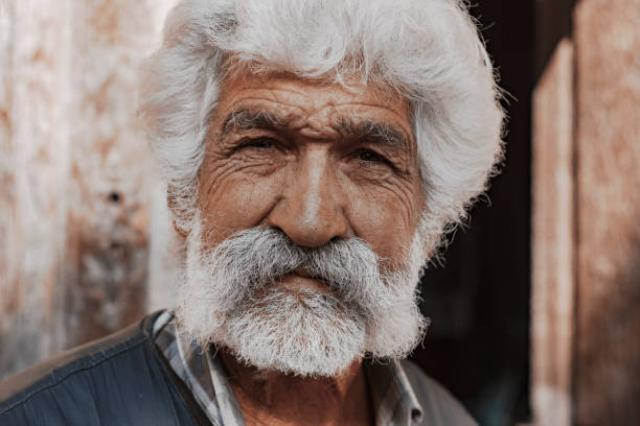crows_feet: (210, 143, 236, 179), (390, 155, 410, 197)
forehead: (238, 78, 290, 108), (354, 94, 392, 116)
frown_line: (293, 115, 335, 142)
gummy_smile: (256, 192, 276, 225), (343, 213, 363, 241)
